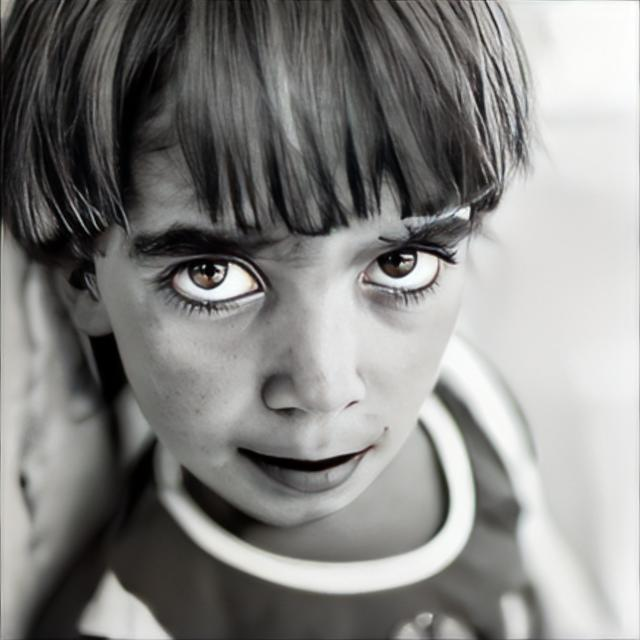neutral: (99, 46, 472, 526)
